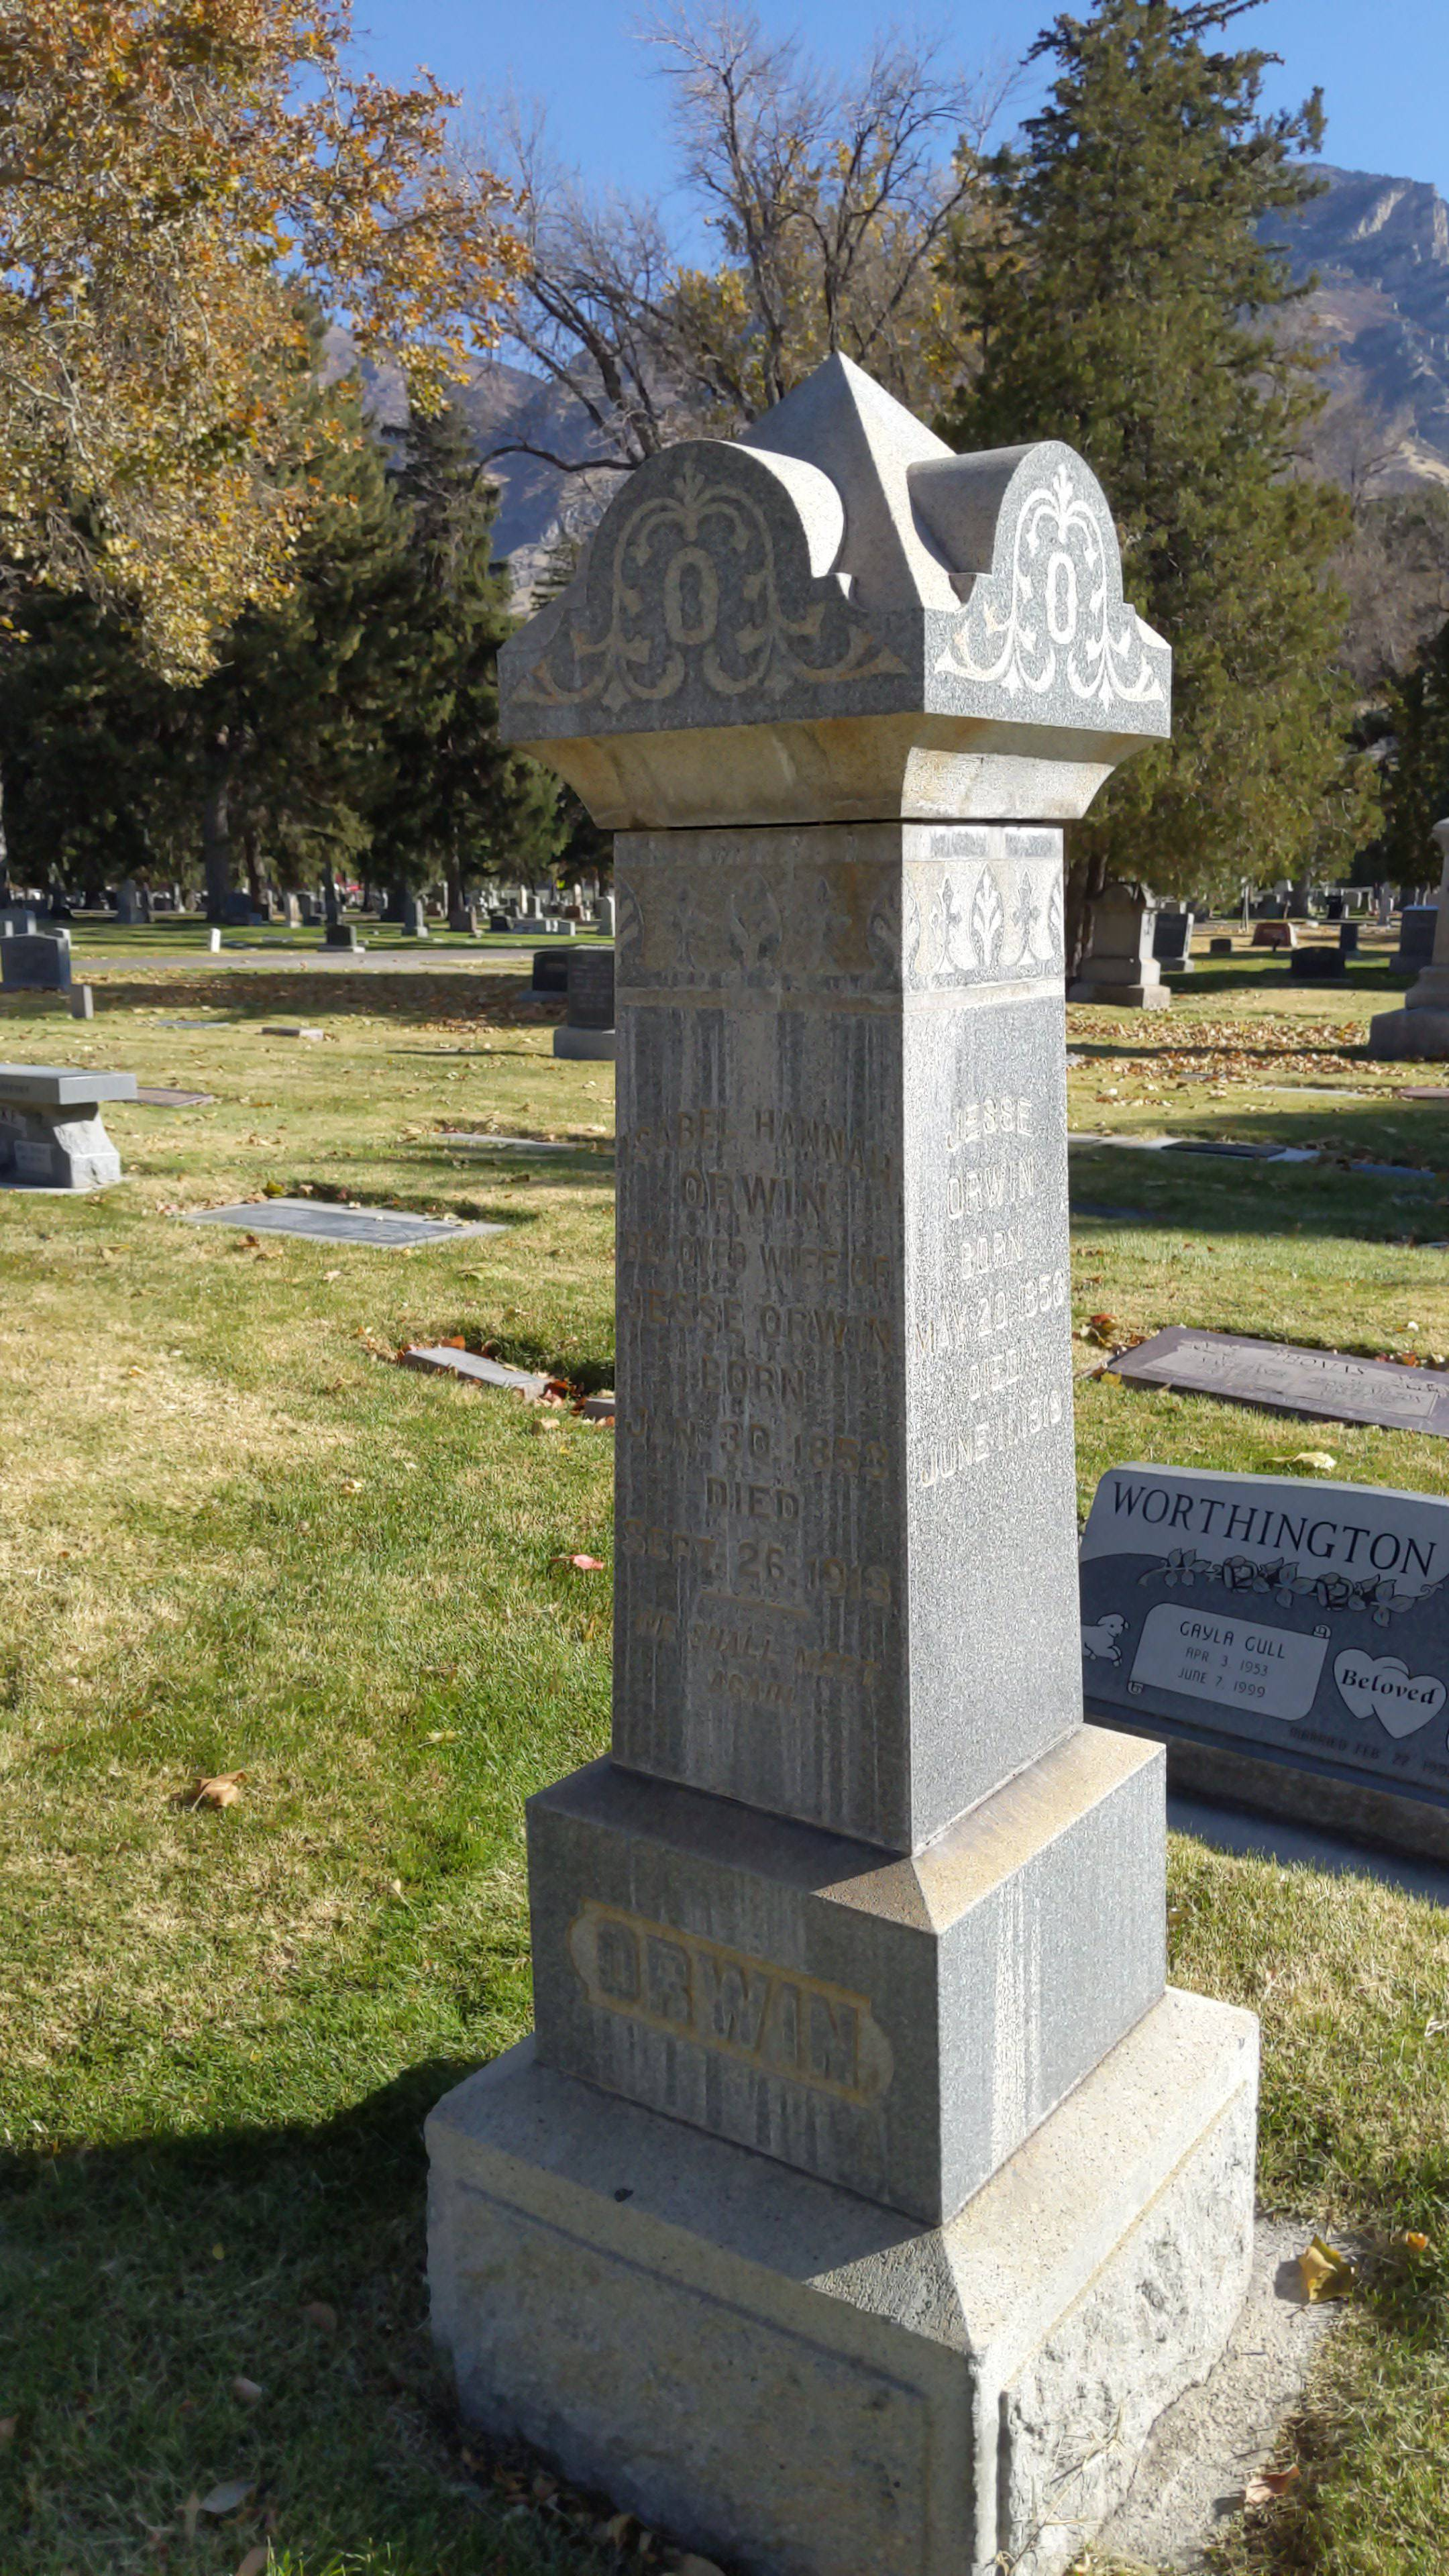obelisk: (501, 354, 1169, 2215)
